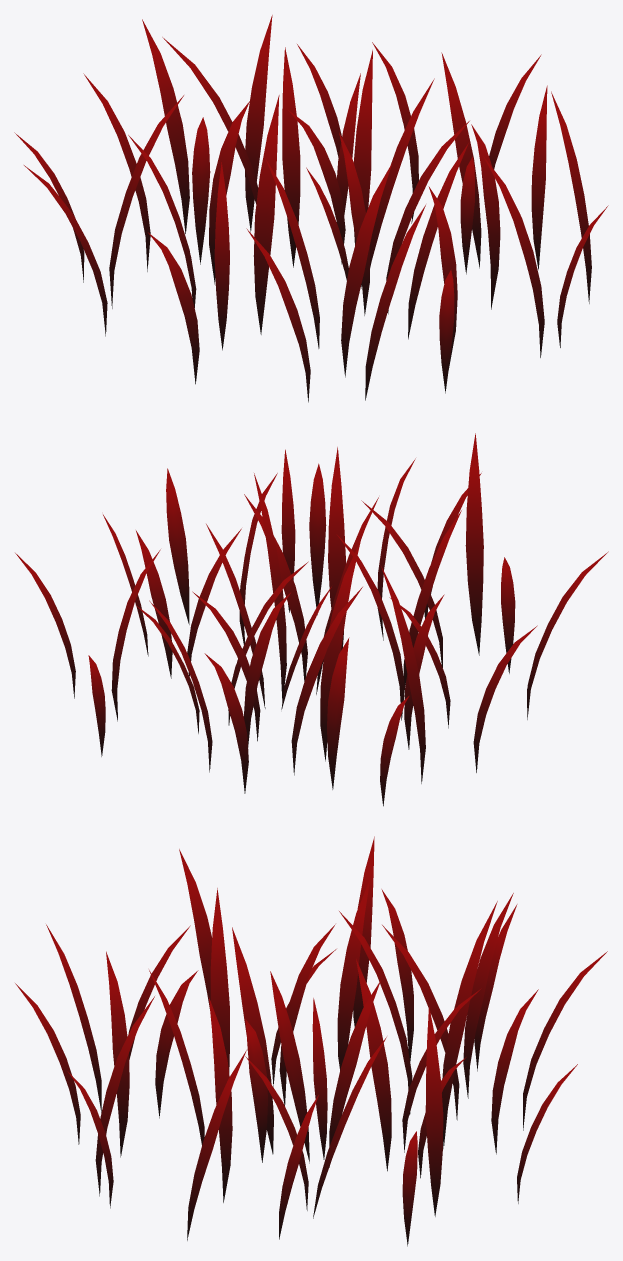
The model's file is Grass01.fbx.
3 views of the same model, one above another, from view 1: azimuth 30°, elevation 25°; view 2: azimuth 150°, elevation 25°; view 3: azimuth 270°, elevation 25° (orthographic). The views are drawn at different scales.
Parts seen in each view (by area): view 1: Grass; view 2: Grass; view 3: Grass.
Boxes of the visible parts, x1=… form: Grass: x1=14, y1=15, x2=608, y2=402; Grass: x1=15, y1=433, x2=608, y2=806; Grass: x1=15, y1=836, x2=607, y2=1246.
Bounding box in the file's own units: 337 × 133 × 328.
